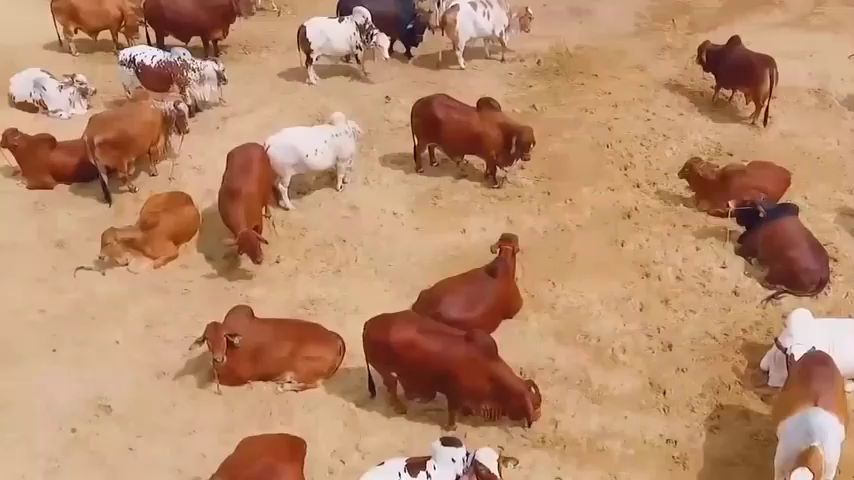bo: (356, 305, 558, 438), (190, 295, 345, 394), (414, 225, 545, 330), (403, 89, 550, 179), (757, 341, 853, 476), (716, 194, 835, 299), (675, 25, 808, 118), (81, 94, 201, 197), (98, 178, 217, 281), (262, 89, 366, 205), (208, 140, 286, 276), (744, 294, 854, 383), (183, 419, 336, 480), (4, 119, 109, 206), (285, 4, 400, 83), (108, 38, 233, 109), (666, 144, 800, 210), (435, 3, 554, 72), (8, 49, 111, 121), (359, 435, 521, 480), (332, 1, 427, 64), (128, 1, 239, 54), (39, 2, 135, 59)
